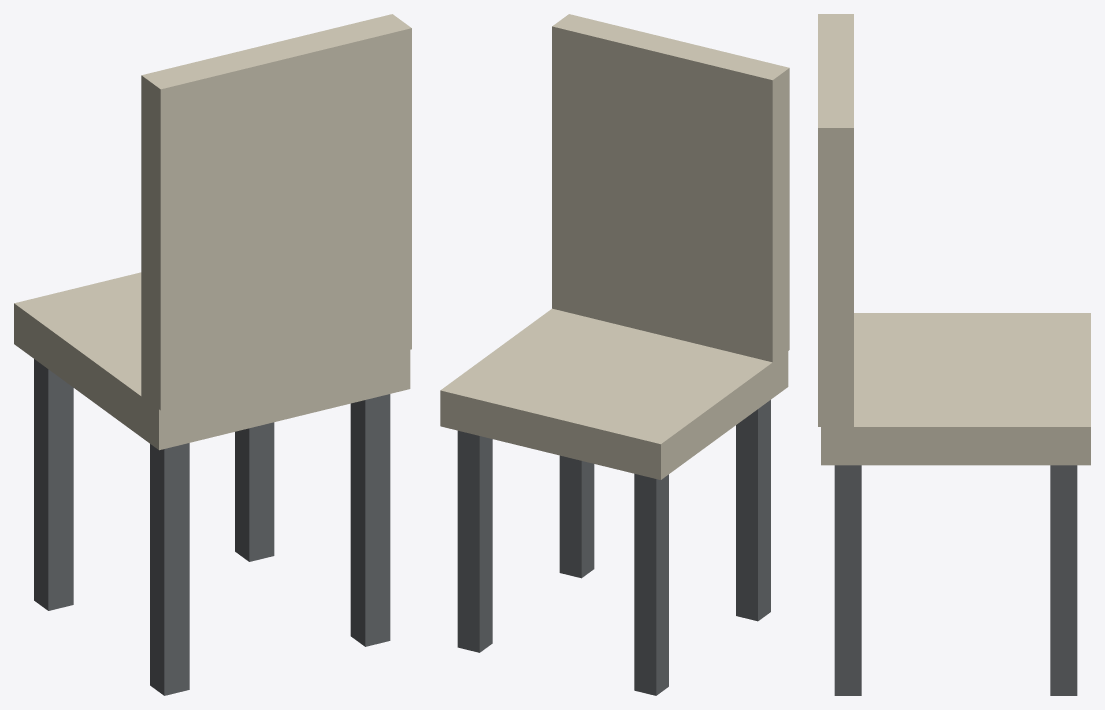
Rendered from chair_01.glb.
3 renders of one model, left to right at view 1: azimuth 30°, elevation 25°; view 2: azimuth 150°, elevation 25°; view 3: azimuth 270°, elevation 25°, orthographic. The views are drawn at different scales.
Parts seen in each view (by area): view 1: back, seat, leg0.180.18, leg-0.180.18, leg-0.18-0.18, leg0.18-0.18; view 2: back, seat, leg0.18-0.18, leg-0.18-0.18, leg-0.180.18, leg0.180.18; view 3: seat, back, leg0.18-0.18, leg0.180.18.
Part boxes in pixels (x1,y1,x2,y2): back: [141, 14, 411, 410]; seat: [14, 272, 410, 450]; leg0.180.18: [350, 394, 390, 646]; leg-0.180.18: [150, 443, 189, 695]; leg-0.18-0.18: [34, 359, 73, 610]; leg0.18-0.18: [235, 422, 274, 561]; back: [552, 14, 789, 362]; seat: [440, 308, 788, 479]; leg0.18-0.18: [457, 430, 492, 652]; leg-0.18-0.18: [634, 473, 668, 695]; leg-0.180.18: [736, 400, 770, 621]; leg0.180.18: [559, 455, 594, 578]; seat: [821, 313, 1090, 465]; back: [818, 14, 853, 426]; leg0.18-0.18: [1050, 465, 1077, 695]; leg0.180.18: [834, 465, 861, 695].
Bounding box in the file's own units: 0.45 × 1.05 × 0.455.
